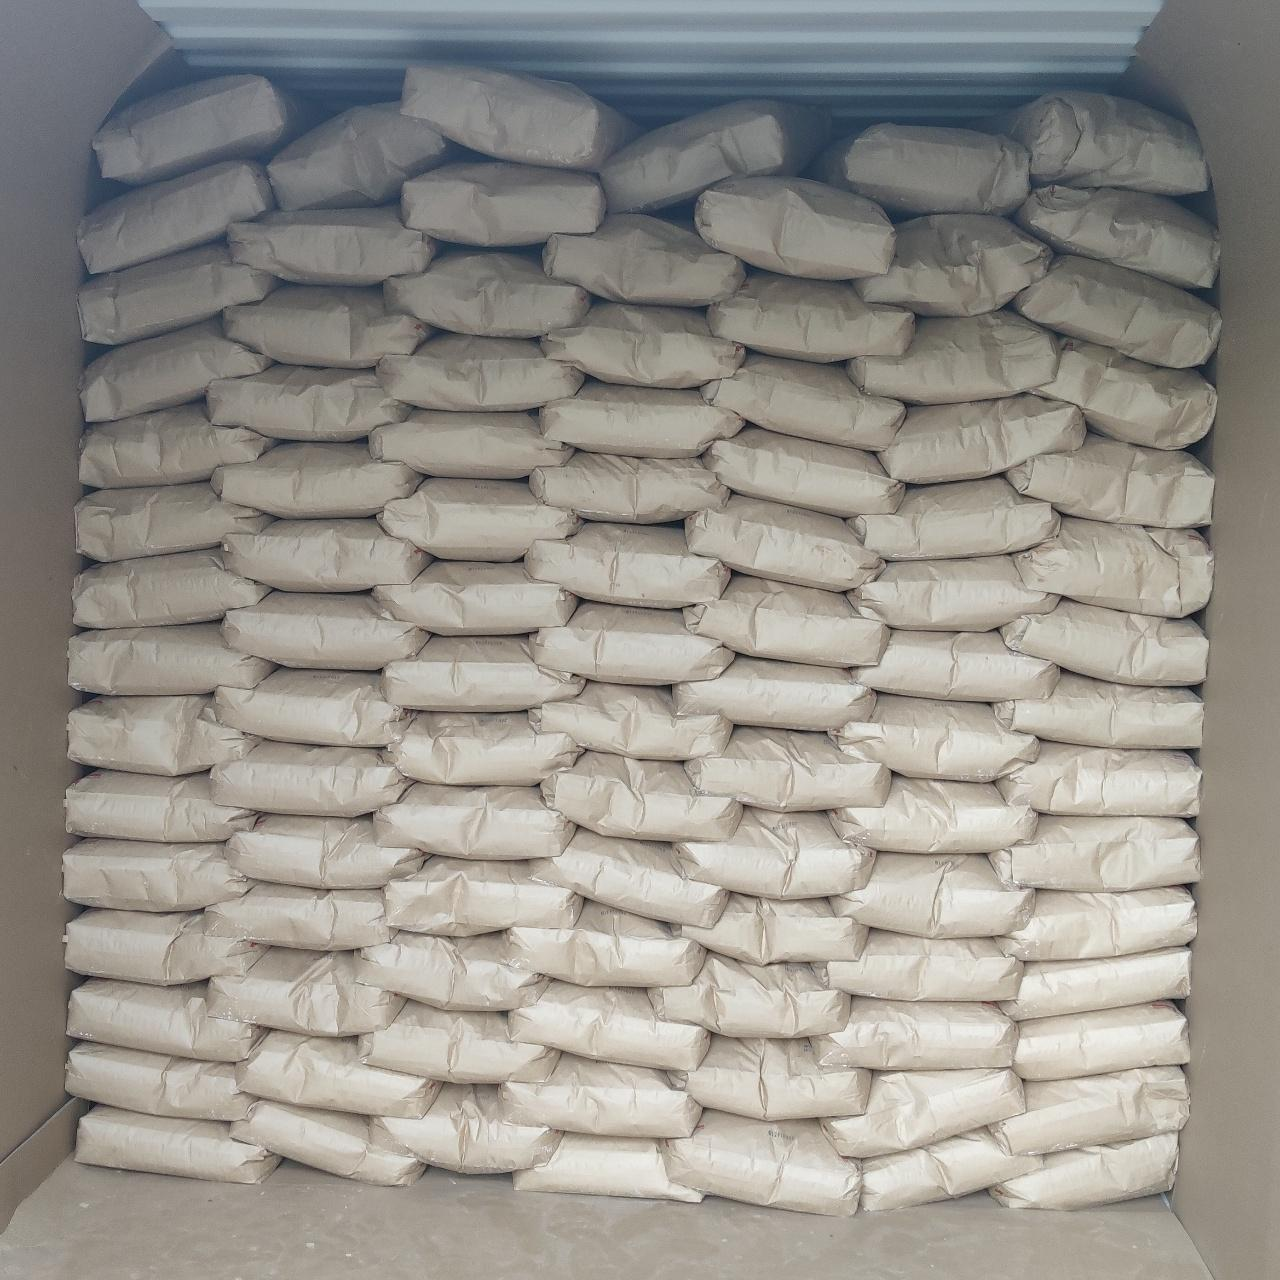sack: (602, 102, 828, 212), (94, 74, 318, 182), (402, 64, 632, 168), (982, 91, 1206, 195), (1012, 256, 1220, 366), (80, 162, 272, 270), (1016, 184, 1218, 286), (663, 1112, 860, 1214), (696, 178, 894, 278), (1032, 338, 1214, 445), (80, 241, 274, 342), (1016, 516, 1212, 614), (855, 216, 1050, 314), (1006, 434, 1212, 526), (816, 125, 1028, 215), (702, 354, 903, 448), (82, 320, 270, 420), (268, 104, 450, 206), (530, 830, 726, 924), (686, 496, 878, 590), (708, 270, 912, 358), (880, 394, 1084, 482), (704, 425, 903, 516), (685, 576, 886, 663), (402, 159, 604, 246), (850, 314, 1054, 399), (1002, 600, 1206, 685), (544, 216, 742, 302), (676, 808, 874, 894), (822, 1070, 1022, 1156), (386, 250, 588, 334), (832, 696, 1036, 779), (542, 753, 740, 838), (510, 982, 708, 1068), (530, 602, 734, 685), (852, 478, 1058, 558), (224, 286, 430, 366), (526, 524, 726, 606), (370, 1085, 558, 1172), (240, 1032, 438, 1114), (670, 1036, 869, 1118), (210, 948, 400, 1034), (229, 206, 438, 284), (504, 903, 704, 983), (686, 728, 888, 808), (651, 954, 846, 1036), (990, 1068, 1186, 1150), (542, 302, 742, 382), (377, 478, 578, 558), (360, 1002, 558, 1082), (502, 1054, 700, 1133), (832, 855, 1030, 934), (80, 404, 272, 486), (996, 672, 1201, 748), (232, 1099, 422, 1182), (224, 592, 428, 668), (832, 776, 1036, 852), (70, 980, 263, 1060), (530, 682, 730, 758), (850, 556, 1056, 629), (215, 442, 420, 516), (76, 1107, 278, 1182), (540, 380, 742, 454), (74, 550, 268, 626), (386, 858, 580, 934), (374, 784, 574, 858), (372, 561, 574, 634), (68, 696, 258, 774), (377, 334, 583, 406), (384, 636, 583, 710), (990, 816, 1198, 886), (79, 482, 268, 558), (222, 520, 430, 590), (70, 622, 272, 694), (207, 366, 406, 438), (852, 629, 1056, 700), (998, 742, 1198, 813), (66, 910, 263, 982), (860, 1130, 1039, 1210), (676, 656, 874, 728), (813, 998, 1014, 1068), (68, 1042, 252, 1118), (212, 742, 408, 813), (816, 930, 1020, 998), (356, 932, 544, 1006), (386, 712, 580, 782), (229, 816, 422, 886), (216, 670, 406, 742), (992, 1133, 1178, 1206), (530, 452, 726, 522), (1000, 888, 1194, 958), (370, 410, 572, 476), (674, 894, 866, 962), (1002, 948, 1189, 1017), (64, 840, 250, 910), (1014, 1005, 1186, 1078), (66, 772, 254, 838), (206, 881, 392, 948), (515, 1133, 702, 1198)
